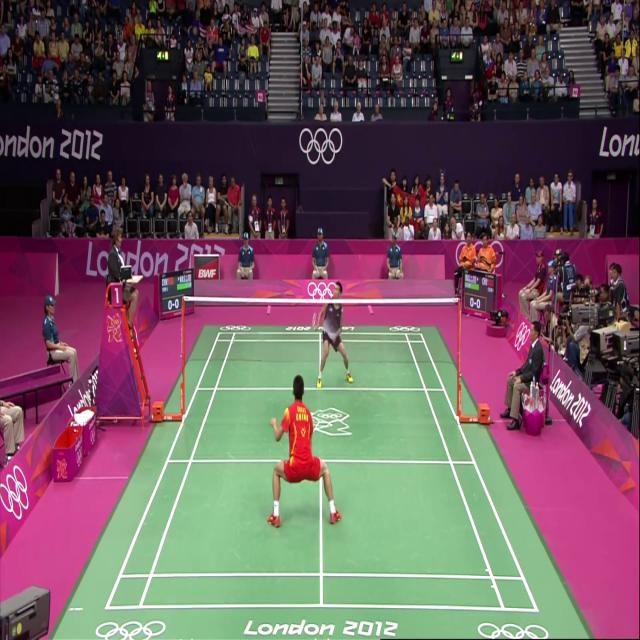Net: (180, 294, 461, 369)
Player1: (268, 346, 359, 539)
Player2: (318, 274, 354, 383)
Shuttlecock: (246, 210, 256, 229)
